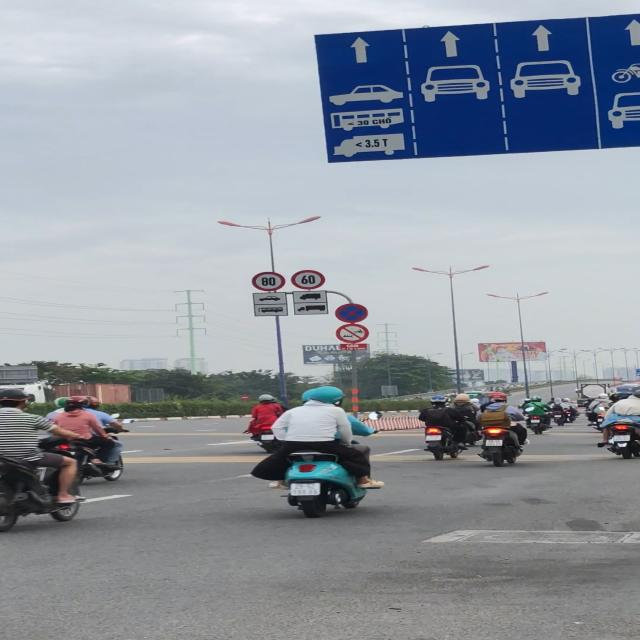Bien bao cam dung xe va do xe: (333, 302, 369, 324)
Bien bao toc do toi da cho phep: (290, 270, 327, 290), (251, 271, 286, 292)
